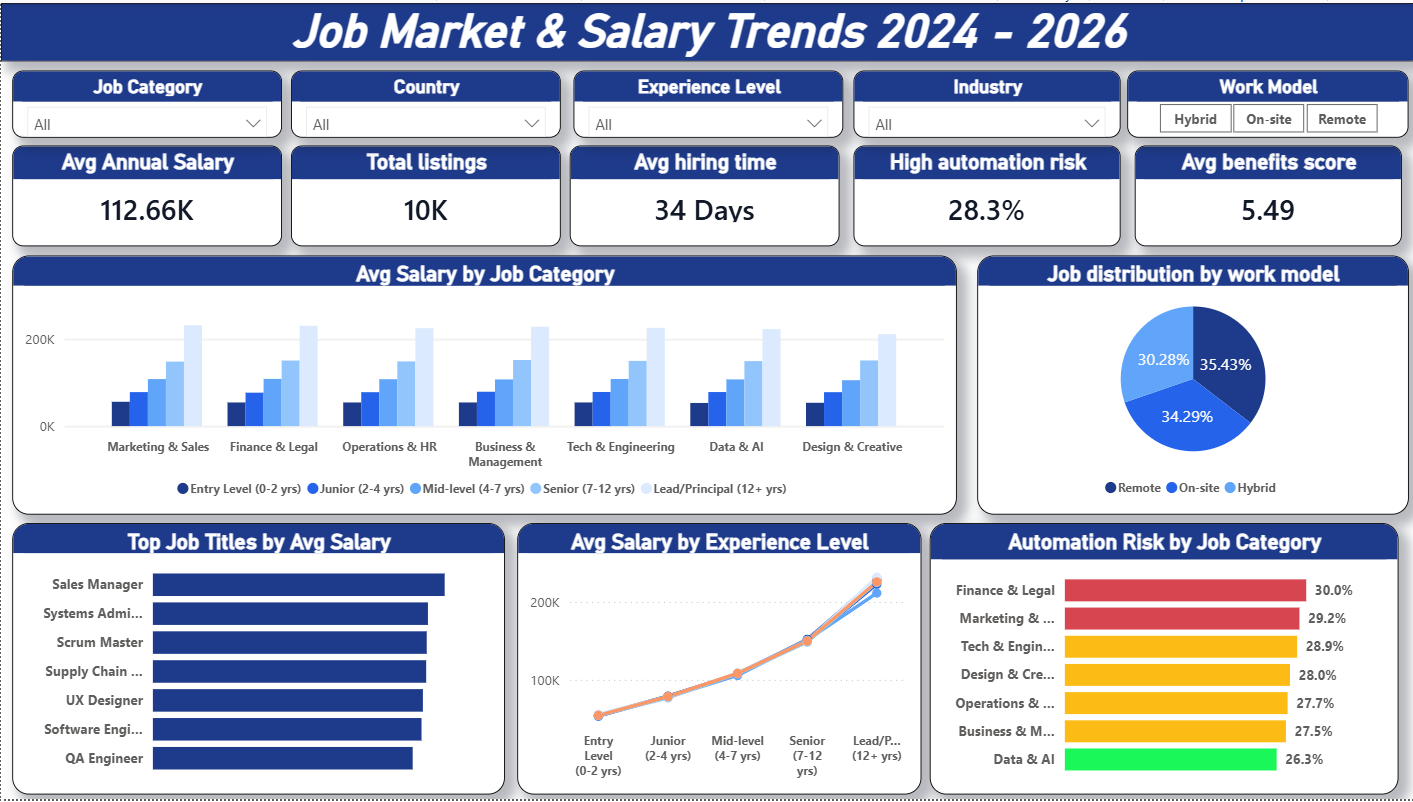

What the dashboard file says about the page in this screenshot:
{"tool":"powerbi","page":{"name":"Page 1","canvas":[1280,720],"ordinal":0},"visuals":[{"type":"cardVisual","title":"Avg Annual Salary","fields":{"Data":["Avg(job_market_salary_trends.salary_usd_annual)"]},"box":[10.2,128.9,244.2,91.6],"z":0},{"type":"textbox","title":"Job Market & Salary Trends  2024 - 2026","box":[0,0,1279.9,53.1],"z":1000},{"type":"cardVisual","title":"Total listings","fields":{"Data":["Count(job_market_salary_trends.job_id)"]},"box":[262.3,128.9,244.2,91.6],"z":2000},{"type":"cardVisual","title":"Avg hiring time","fields":{"Data":["Avg(job_market_salary_trends.hiring_time_days)"]},"box":[514.4,128.9,244.2,91.6],"z":3000},{"type":"cardVisual","title":"High automation risk","fields":{"Data":["job_market_salary_trends.High Automation Risk %"]},"box":[771.1,128.9,242,91.6],"z":4000},{"type":"cardVisual","title":"Avg benefits score","fields":{"Data":["Avg(job_market_salary_trends.benefits_score)"]},"box":[1025.5,128.9,242,91.6],"z":5000},{"type":"clusteredColumnChart","title":"Avg Salary by Job Category","fields":{"Category":["job_market_salary_trends.job_category"],"Y":["Avg(job_market_salary_trends.salary_usd_annual)"],"Series":["job_market_salary_trends.experience_level"]},"box":[10.2,228.5,854.3,234.4],"z":6000},{"type":"pieChart","title":"Job distribution by work model","fields":{"Category":["job_market_salary_trends.work_model"],"Y":["CountNonNull(job_market_salary_trends.job_id)"]},"box":[883,228.4,390.1,234],"z":7000},{"type":"clusteredBarChart","title":" Top Job Titles by Avg Salary","fields":{"Category":["job_market_salary_trends.job_title"],"Y":["Avg(job_market_salary_trends.salary_usd_annual)"]},"box":[10.2,470.4,445.5,245.4],"z":8000},{"type":"lineChart","title":"Avg Salary by Experience Level","fields":{"Y":["Avg(job_market_salary_trends.salary_usd_annual)"],"Series":["job_market_salary_trends.job_category"],"Category":["job_market_salary_trends.experience_level"]},"box":[467,470.4,365.2,245.4],"z":9000},{"type":"clusteredBarChart","title":"Automation Risk by Job Category","fields":{"Category":["job_market_salary_trends.job_category"],"Y":["job_market_salary_trends.High Automation Risk %"]},"box":[840.1,470.4,424,245.4],"z":10000},{"type":"slicer","title":"Job Category","fields":{"Values":["job_market_salary_trends.job_category"]},"box":[10.2,61.1,244.2,61.1],"z":11000},{"type":"slicer","title":"Country","fields":{"Values":["job_market_salary_trends.country"]},"box":[262.3,61.1,244.2,61.1],"z":12000},{"type":"slicer","title":"Experience Level","fields":{"Values":["job_market_salary_trends.experience_level"]},"box":[517.8,61.1,244.2,61.1],"z":13000},{"type":"slicer","title":"Industry","fields":{"Values":["job_market_salary_trends.industry"]},"box":[771.1,61.1,242,61.1],"z":14000},{"type":"slicer","title":"Work Model","fields":{"Values":["job_market_salary_trends.work_model"]},"box":[1018.7,61.1,254.4,61.1],"z":15000}]}

Visuals, with their boxes in screenshot pixels (x1, y1, x2, y2), scaled from the page's 1280x720 canvas onto the 1413x802 screenshot:
"Avg Annual Salary" cardVisual: (left=11, top=144, right=281, bottom=246)
"Job Market & Salary Trends  2024 - 2026" textbox: (left=0, top=0, right=1412, bottom=59)
"Total listings" cardVisual: (left=290, top=144, right=559, bottom=246)
"Avg hiring time" cardVisual: (left=568, top=144, right=837, bottom=246)
"High automation risk" cardVisual: (left=851, top=144, right=1118, bottom=246)
"Avg benefits score" cardVisual: (left=1132, top=144, right=1399, bottom=246)
"Avg Salary by Job Category" clusteredColumnChart: (left=11, top=255, right=954, bottom=516)
"Job distribution by work model" pieChart: (left=975, top=254, right=1405, bottom=515)
" Top Job Titles by Avg Salary" clusteredBarChart: (left=11, top=524, right=503, bottom=797)
"Avg Salary by Experience Level" lineChart: (left=516, top=524, right=919, bottom=797)
"Automation Risk by Job Category" clusteredBarChart: (left=927, top=524, right=1395, bottom=797)
"Job Category" slicer: (left=11, top=68, right=281, bottom=136)
"Country" slicer: (left=290, top=68, right=559, bottom=136)
"Experience Level" slicer: (left=572, top=68, right=841, bottom=136)
"Industry" slicer: (left=851, top=68, right=1118, bottom=136)
"Work Model" slicer: (left=1125, top=68, right=1405, bottom=136)
